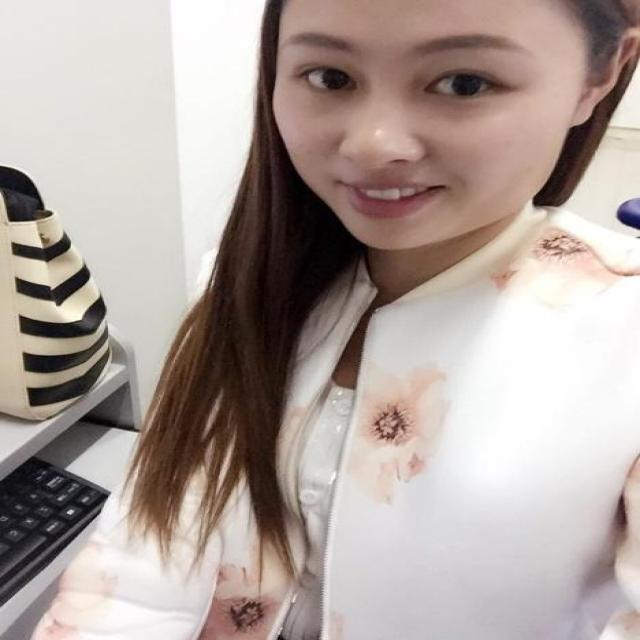long sleeve outwear: (33, 233, 373, 638)
